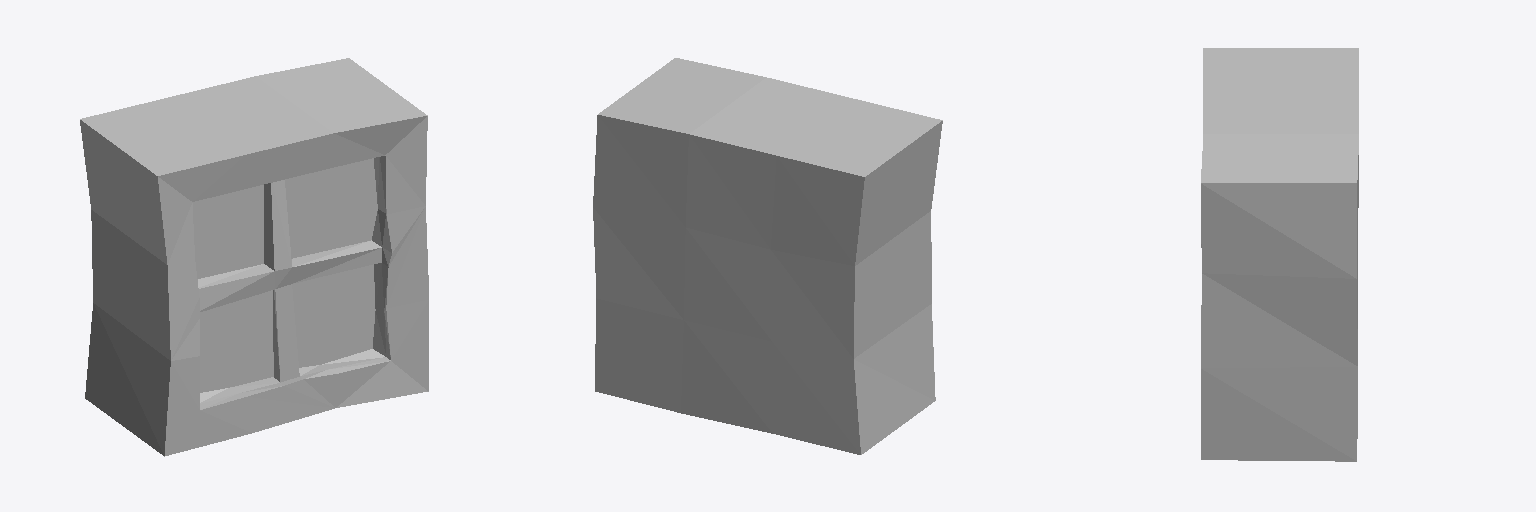
Rendered from Window.obj.
The picture shows the model from 3 angles: view 1: azimuth 30°, elevation 25°; view 2: azimuth 150°, elevation 25°; view 3: azimuth 270°, elevation 25°; orthographic projection.
Parts seen in each view (by area): view 1: Window_1_Cube; view 2: Window_1_Cube; view 3: Window_1_Cube.
Part boxes in pixels (bbox=[...]): Window_1_Cube: bbox=[80, 58, 428, 456]; Window_1_Cube: bbox=[593, 58, 942, 454]; Window_1_Cube: bbox=[1201, 48, 1358, 461].
Bounding box in the file's own units: 3.99 × 3.94 × 2.01.